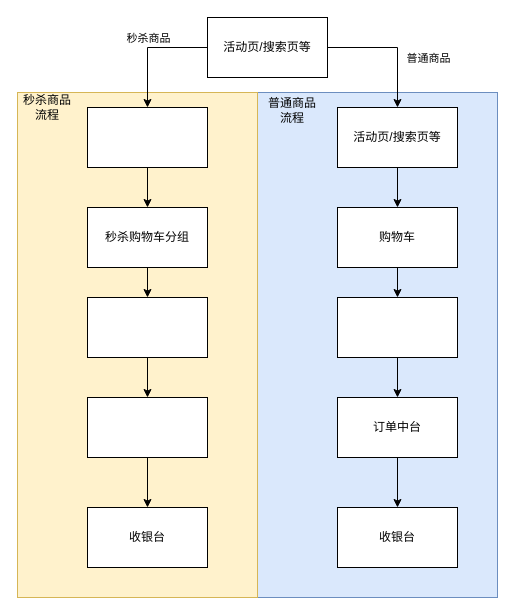
This 515x615 diagram has some shape labels left out. The box of each missing label's shape, as (x1, y1, x2, y2) in pixels:
秒杀结算: (86, 296, 208, 358)
秒杀订单服务: (86, 396, 208, 458)
秒杀详情页: (86, 106, 208, 168)
结算页: (336, 296, 458, 358)
